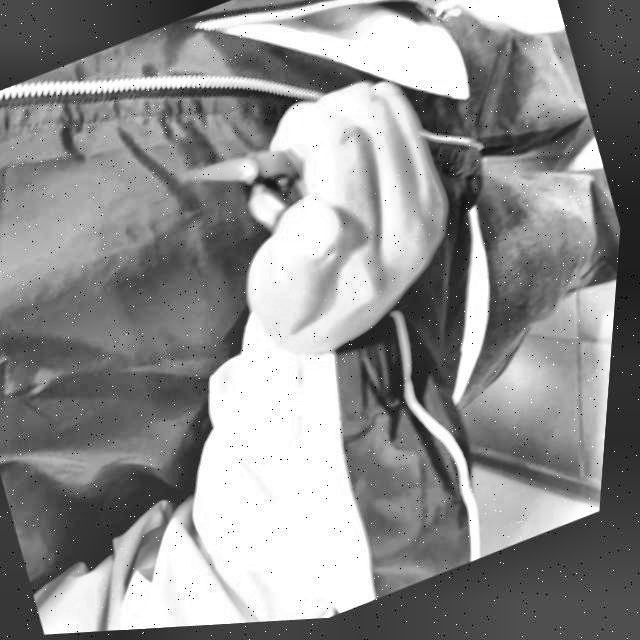Fire: (192, 148, 264, 202)
